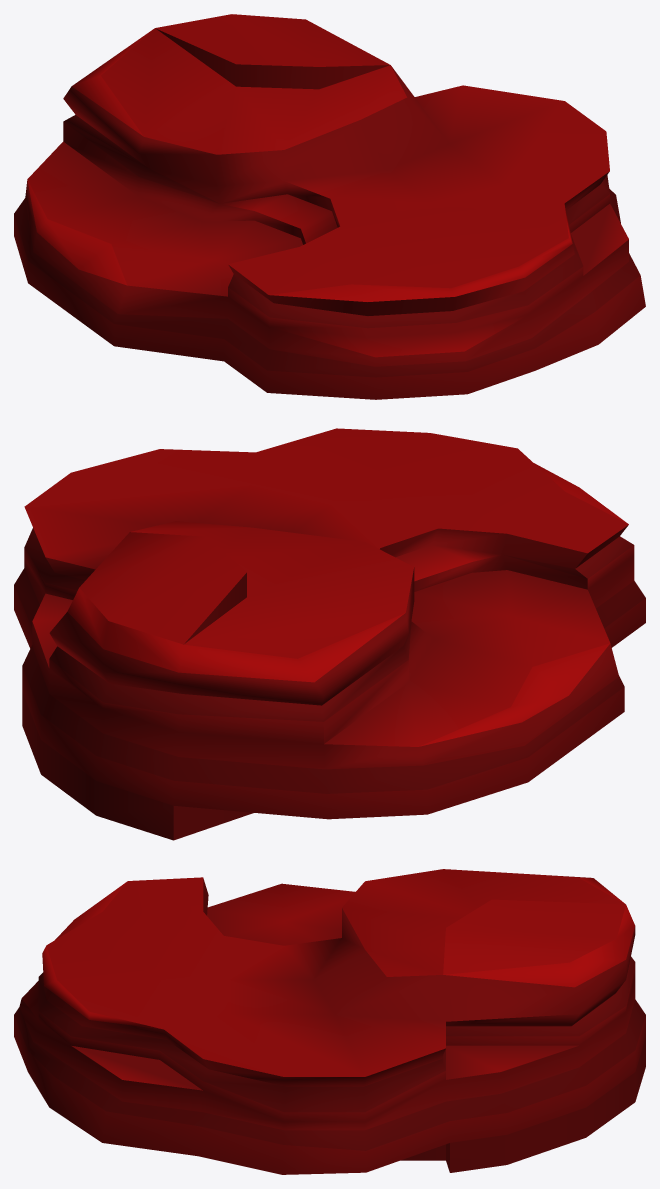
File: geology-rocks-rockflatlayered_v3.fbx
3 views of the same model, one above another, from view 1: azimuth 30°, elevation 25°; view 2: azimuth 150°, elevation 25°; view 3: azimuth 270°, elevation 25° (orthographic). The views are drawn at different scales.
Parts seen in each view (by area): view 1: RockFlatLayered_v3; view 2: RockFlatLayered_v3; view 3: RockFlatLayered_v3.
Boxes of the visible parts, x1=… form: RockFlatLayered_v3: x1=14, y1=14, x2=645, y2=399; RockFlatLayered_v3: x1=14, y1=428, x2=645, y2=840; RockFlatLayered_v3: x1=14, y1=869, x2=645, y2=1174.
Size of the model in its own units: 7.06 by 2.37 by 7.82.
